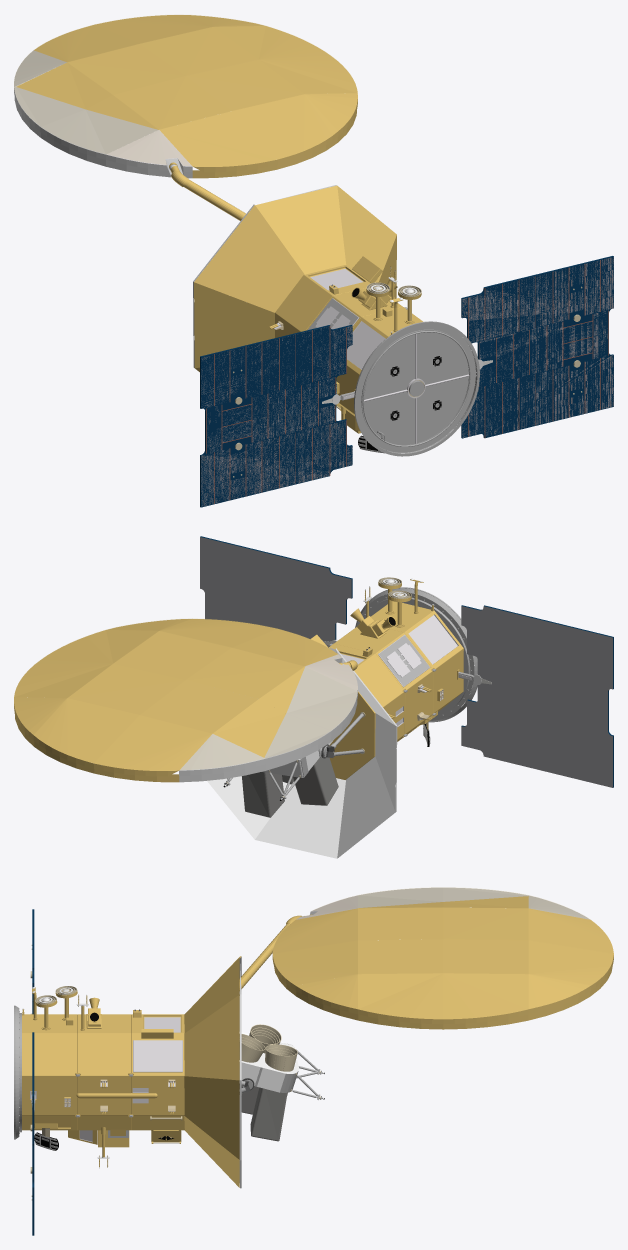
The model's file is aquarius-a.glb.
3 views of the same model, one above another, from view 1: azimuth 30°, elevation 25°; view 2: azimuth 150°, elevation 25°; view 3: azimuth 270°, elevation 25° (orthographic). The views are drawn at different scales.
Visible parts, largest first — view 1: Layer_0; view 2: Layer_0; view 3: Layer_0.
Boxes of the visible parts, bbox=[...] form: Layer_0: bbox=[14, 15, 613, 507]; Layer_0: bbox=[14, 536, 613, 858]; Layer_0: bbox=[14, 887, 613, 1235].
Bounding box in the file's own units: 7.86 × 4.54 × 10.66.
